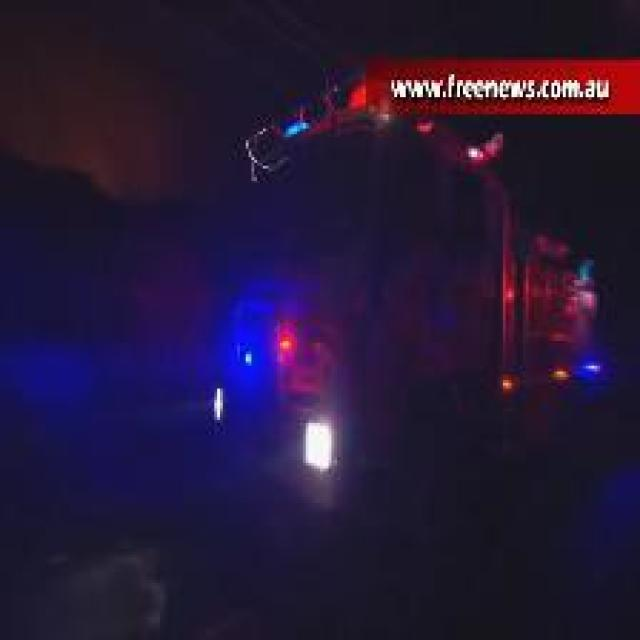other: (259, 308, 330, 381), (293, 406, 342, 503), (494, 360, 515, 396), (545, 355, 566, 390)
